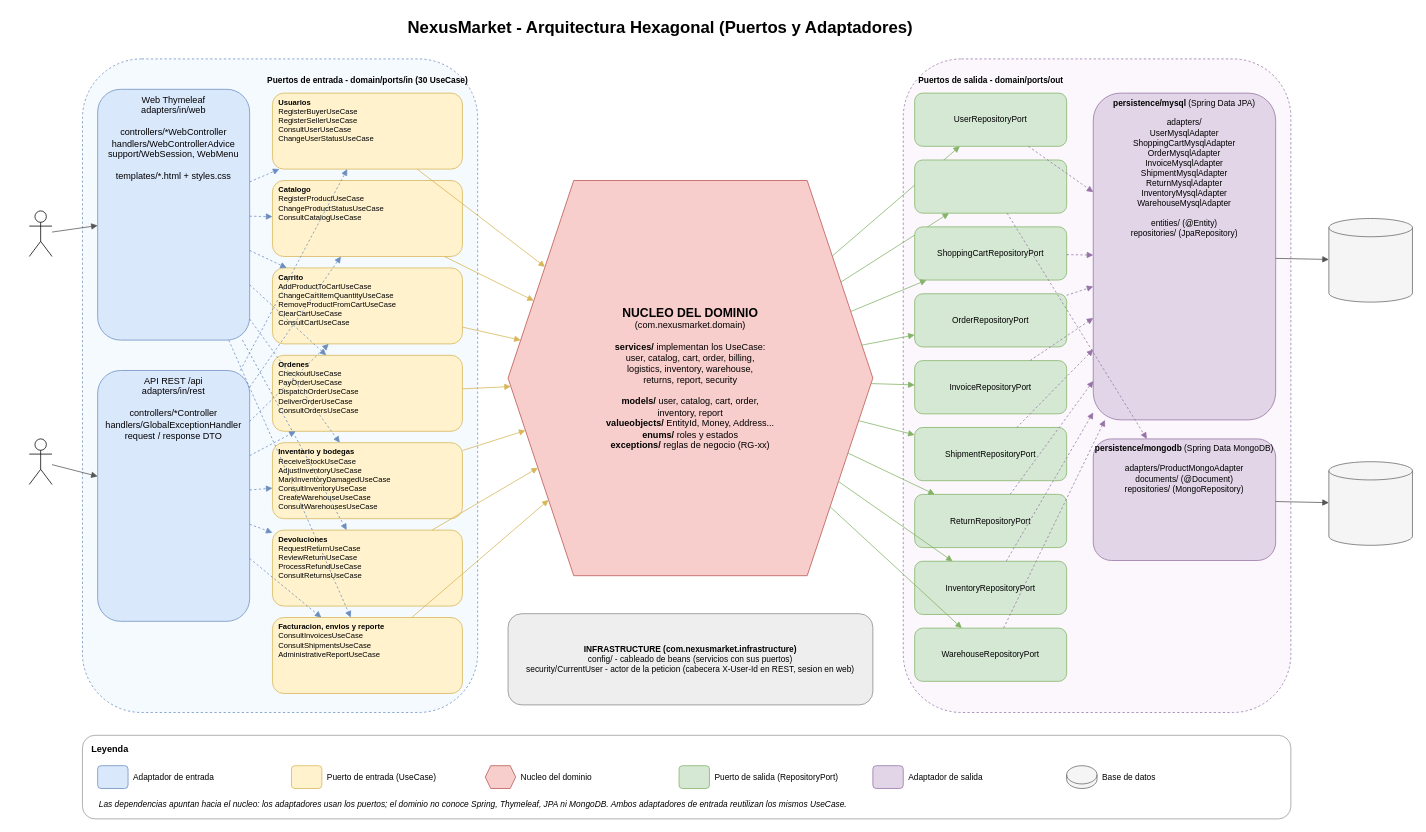
Image size: 1426x832. Some labels were removed from this diagram. The shapes that lost their labels are listed below. From the top down, each one's box as (x1, y1, x2, y2) in pixels, then its label:
(914, 159, 1067, 213): ProductRepositoryPort
(28, 210, 52, 256): Navegador
(1328, 218, 1412, 302): MySQL
(82, 58, 478, 712): ADAPTADORES DE ENTRADA (application/adapters/in)
(902, 58, 1291, 712): ADAPTADORES DE SALIDA (application/adapters/out/persistence)
(28, 438, 52, 484): Cliente REST
(1328, 461, 1412, 545): MongoDB
